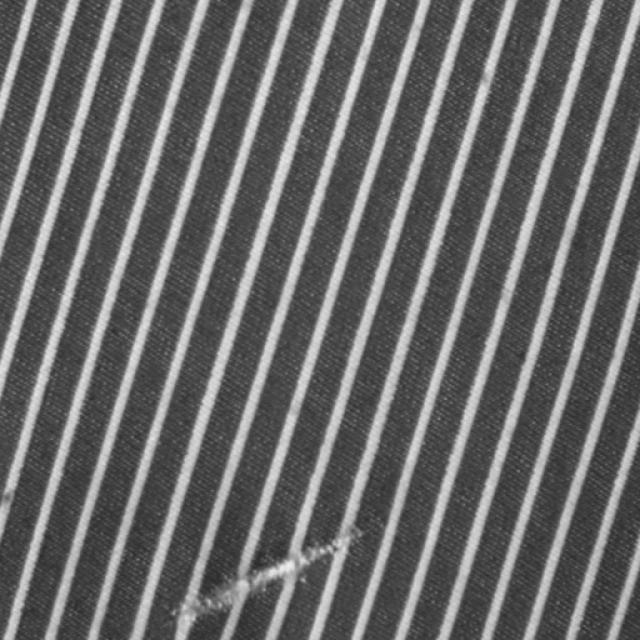Hole-Defect: (165, 525, 364, 639)
